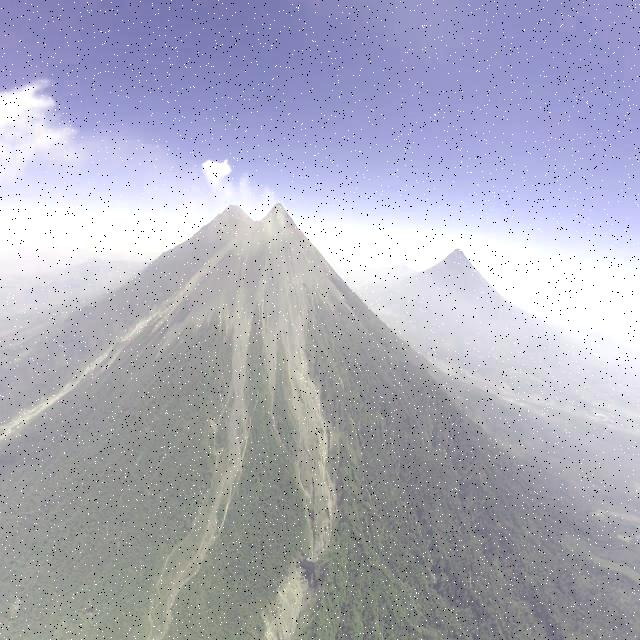Plume: (202, 154, 232, 200)
Summit: (260, 200, 294, 220)
